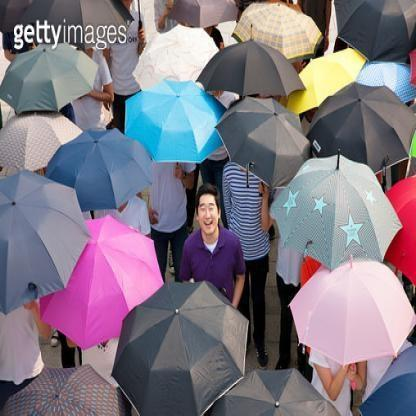Umbrella: (110, 274, 250, 414), (265, 149, 410, 275), (278, 239, 416, 370), (33, 213, 165, 349), (0, 169, 95, 322), (207, 86, 321, 188), (302, 78, 415, 172), (117, 77, 240, 163), (193, 22, 304, 112), (40, 121, 162, 202), (0, 31, 106, 119), (0, 350, 140, 414), (276, 34, 372, 122), (0, 96, 94, 183), (124, 18, 228, 93), (13, 0, 139, 53), (230, 0, 323, 68), (326, 0, 416, 64), (349, 50, 415, 113), (166, 0, 246, 31)
